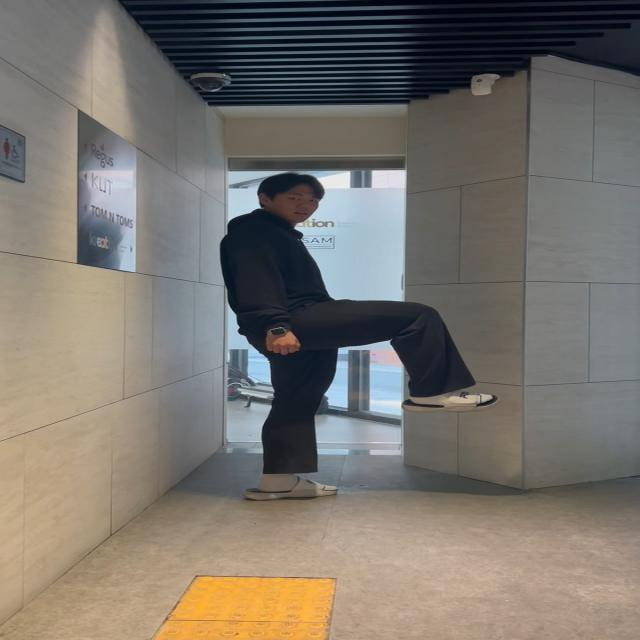knee: (294, 299, 492, 409)
